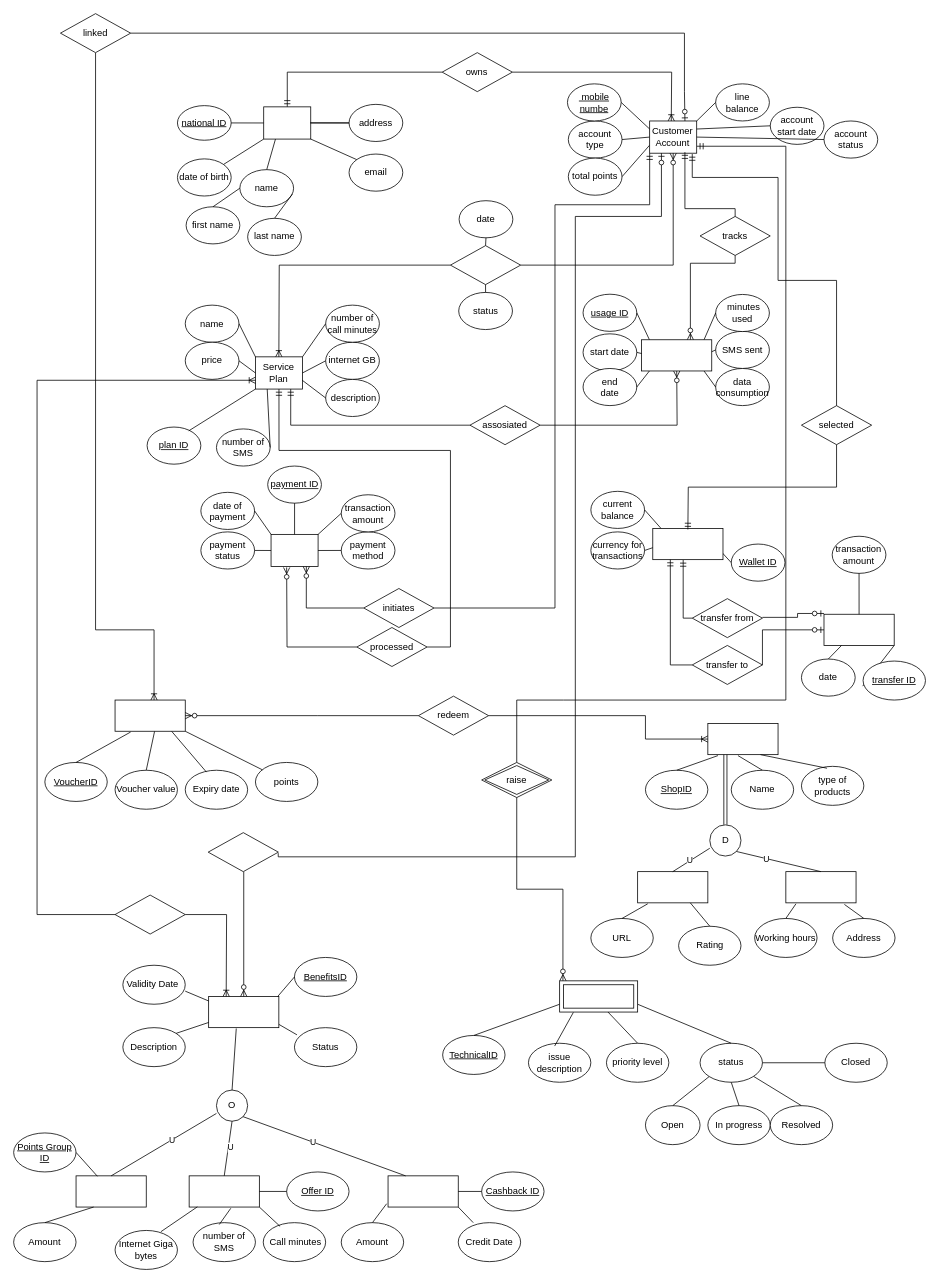
The diagram is 939 pixels wide and 1283 high, and some of its shapes have lost their labels. Each missing label, with the centre of its shape:
"Benefits" goes at (243,1012).
"Cashback" goes at (422,1191).
"Customer Profile" goes at (287,122).
"E-Shop" goes at (672,887).
"Exclusive offer" goes at (223,1191).
"has" goes at (242,852).
"Payment" goes at (294,550).
"Physical" goes at (820,887).
"Plan Usage" goes at (676,355).
"Points Group" goes at (110,1191).
"shop" goes at (742,739).
"subscribe" goes at (485,265).
"Technical Support" goes at (598,996).
"Transaction" goes at (858,629).
"Utilize" goes at (149,914).
"Voucher" goes at (149,715).
"Wallet" goes at (687,544).
